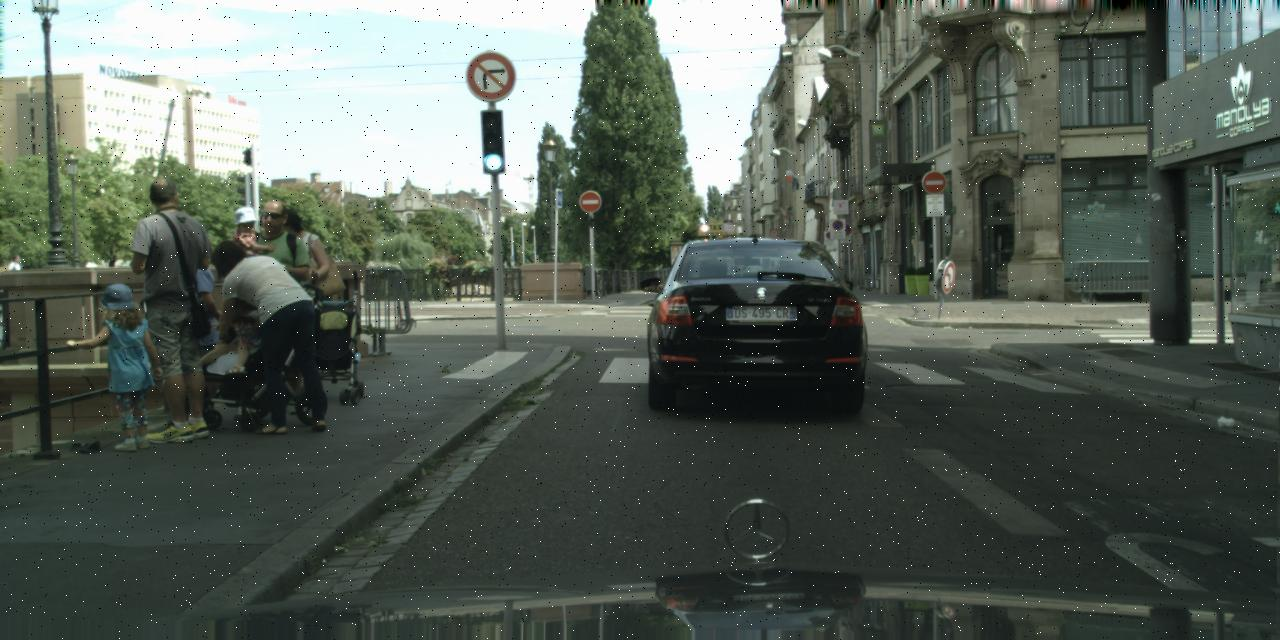ped: (123, 177, 231, 441), (235, 200, 323, 414), (224, 240, 302, 432), (270, 209, 341, 385), (169, 235, 240, 408), (92, 283, 160, 449), (3, 254, 28, 314)
